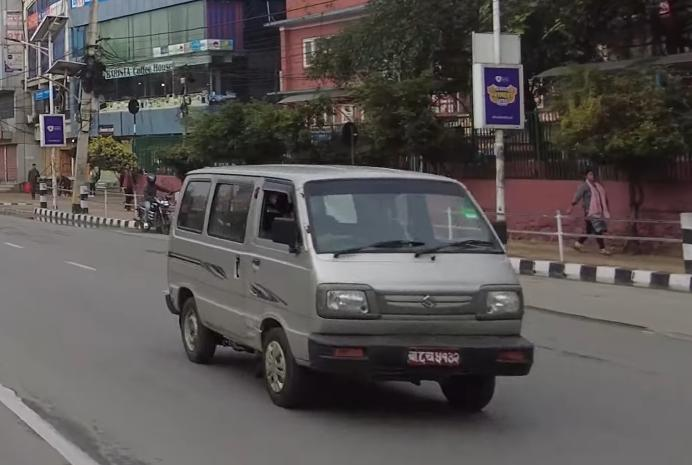van: (156, 160, 543, 423)
